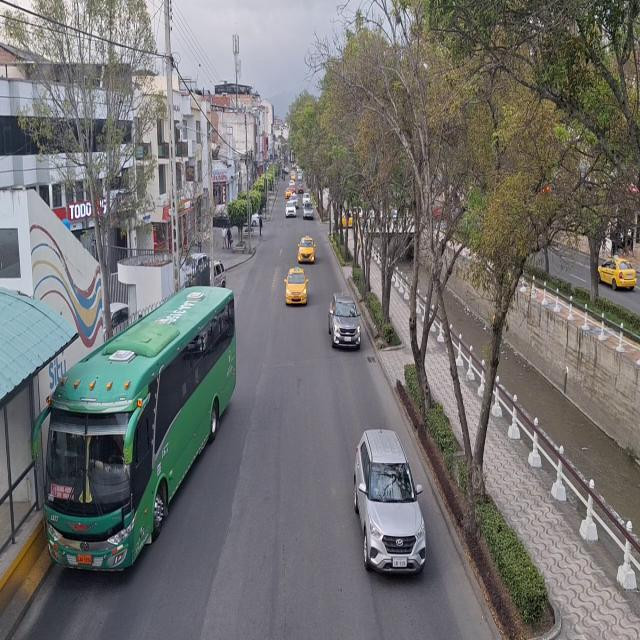BUS: (37, 289, 237, 577)
SUV: (358, 434, 425, 580), (332, 295, 359, 348)
